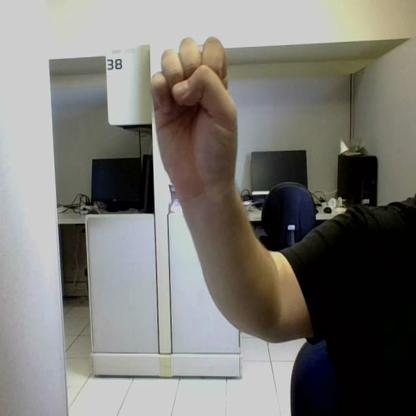S: (152, 37, 237, 188)
